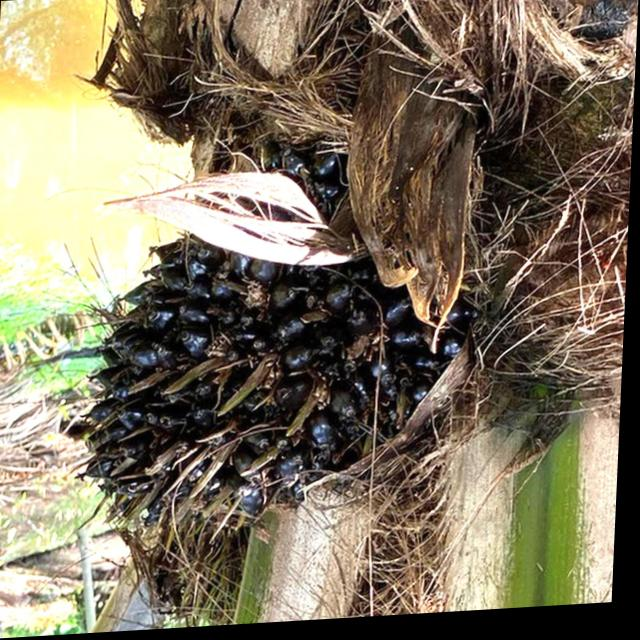unripe: (102, 187, 462, 547)
